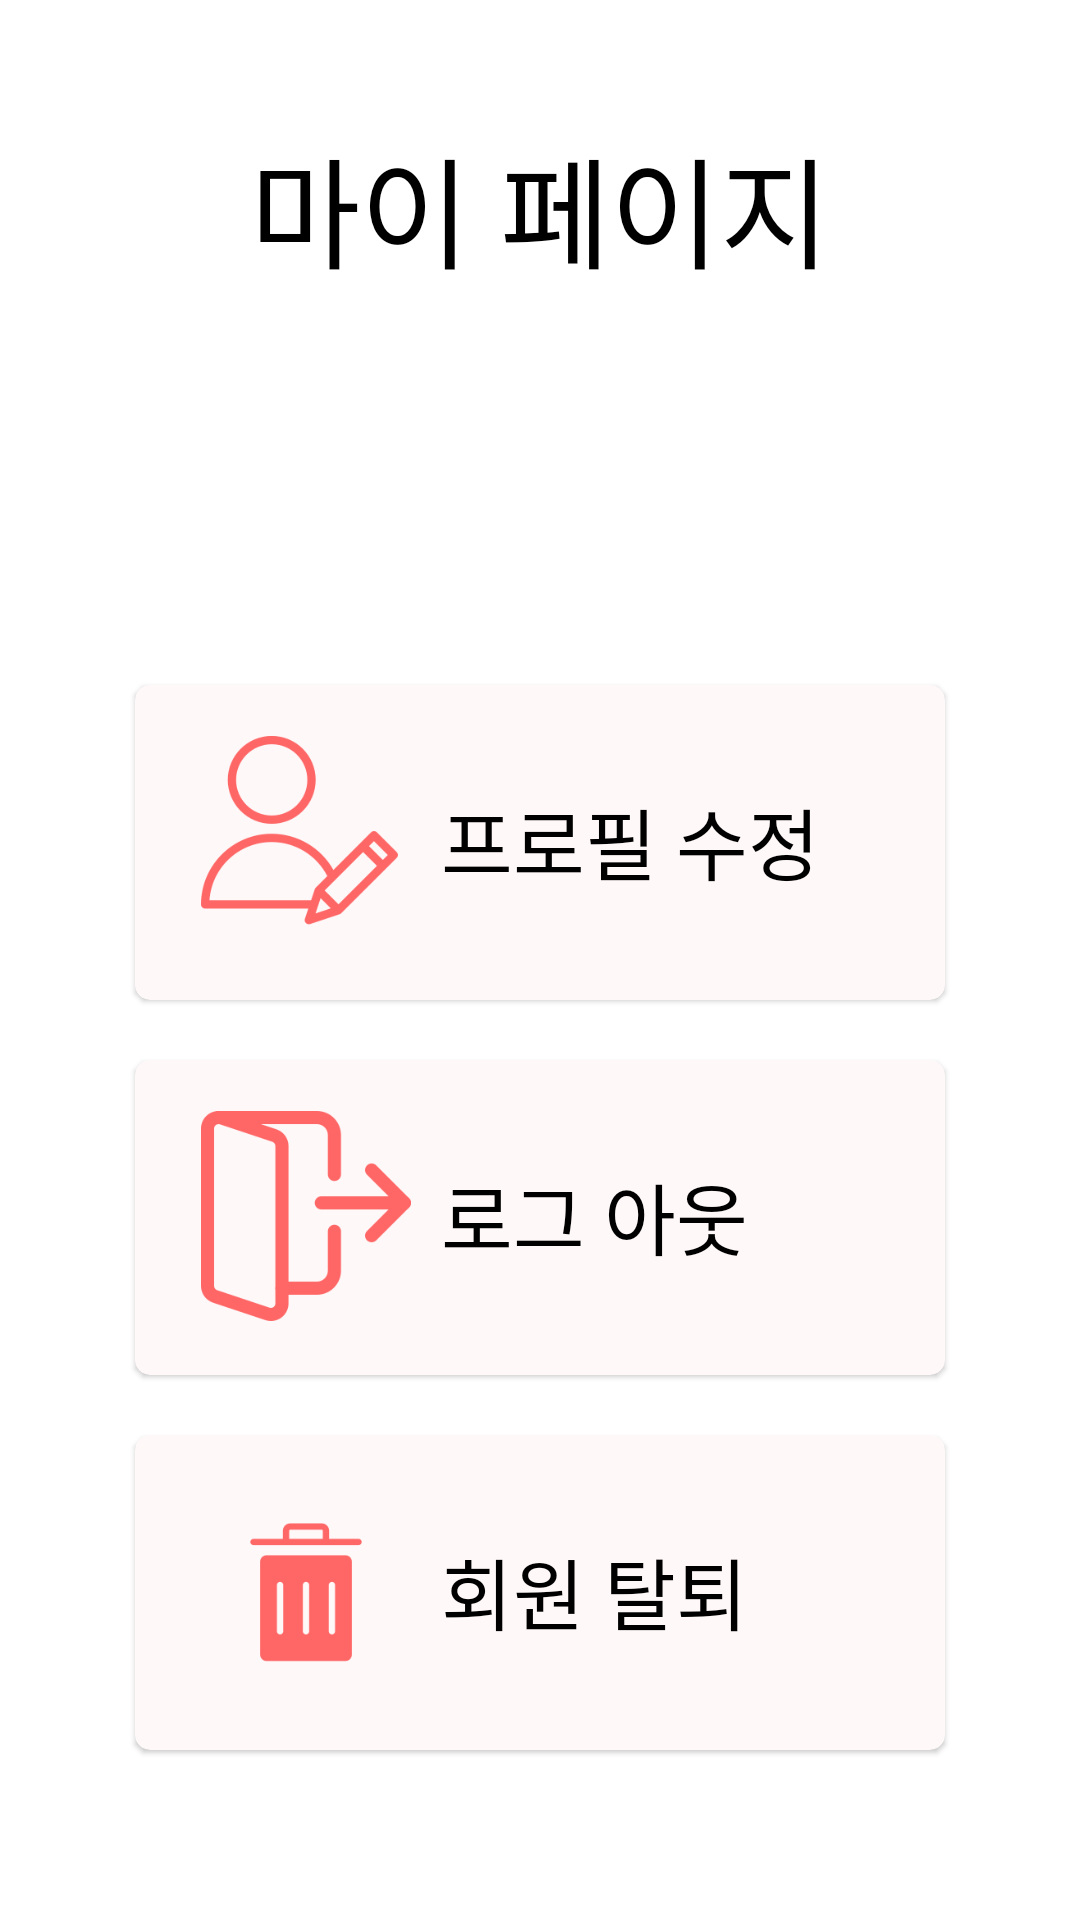

Named icons in this screenshot (1080*1920) and their centers, (x=x, y=y):
delete account: (x=306, y=1592)
editprofile: (x=299, y=830)
